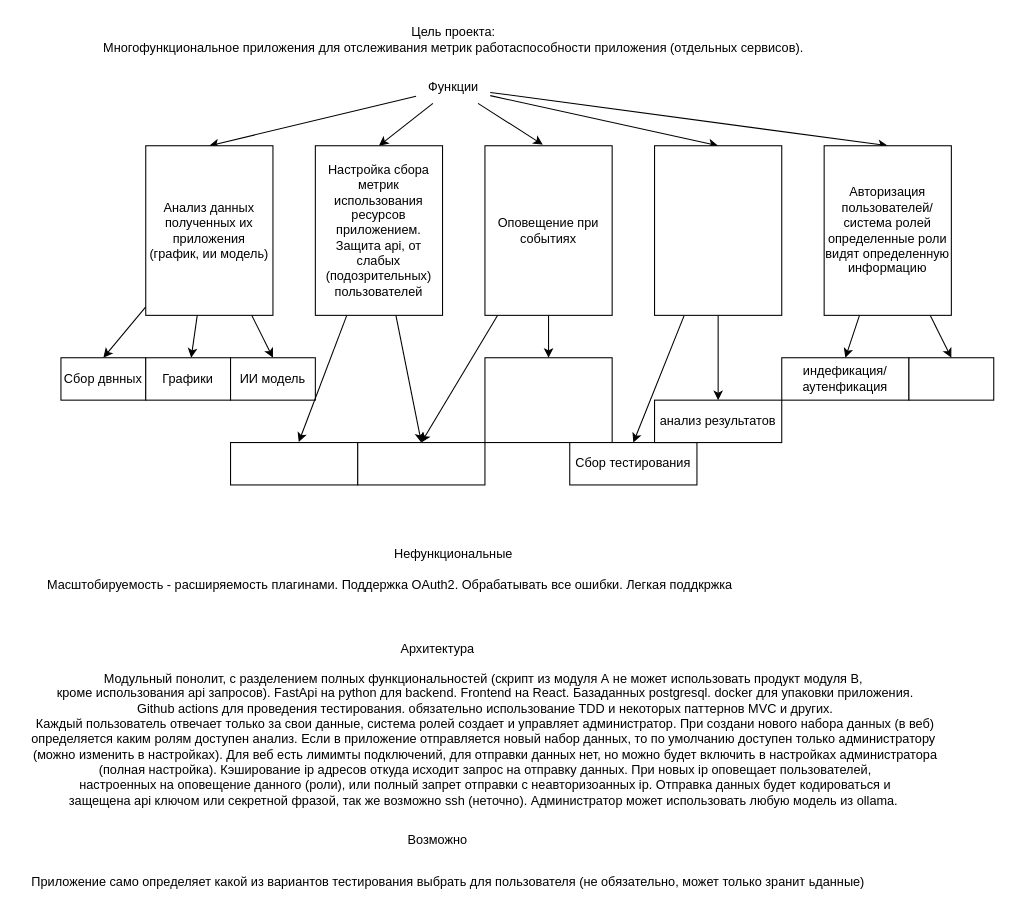
Image size: 1012x916. Some labels were removed from this diagram. Each missing label, with the centre of its shape:
"авторизация" goes at [951,378].
"Оповещение при потозрительной активности" goes at [421,463].
"Отправка сообщений отправленных от приложения" goes at [548,400].
"Проведение анализа результатов A/B тестирований. Например цвет кнопки" goes at [717,230].
"Сохраниение данных за определенный срок" goes at [293,463].
